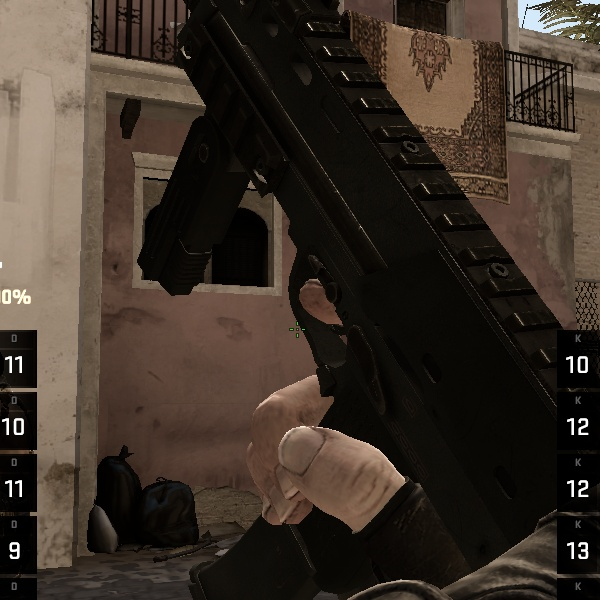t_body: (76, 438, 140, 559)
